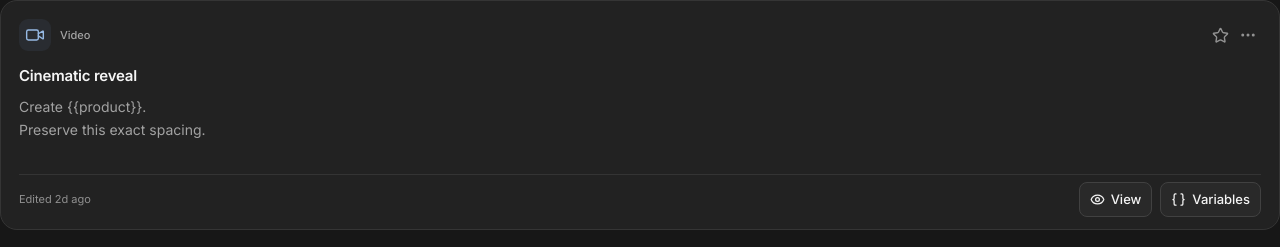
copy-first prompt card › copies from the main grid button without opening details
Step 1. Click the button with aria-label "Copy Cinematic reveal" → (78, 76), box [19,64,1261,160]
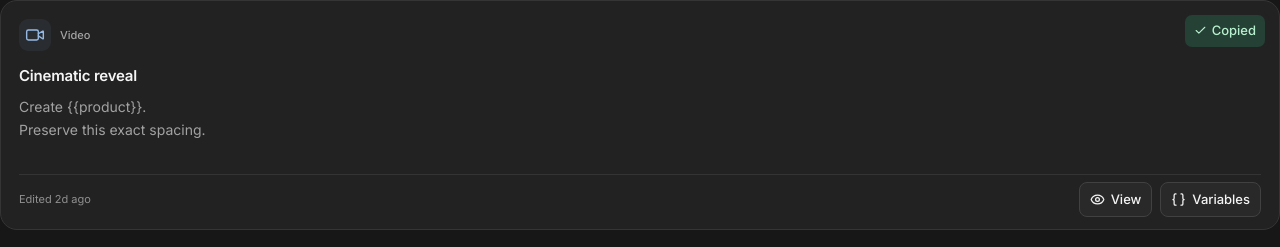
Expected: the number of buttons named "Copy Cinematic reveal" is 1, [19,64,1261,160]
Now the message reads "Copied", box [1212,22,1256,38]
